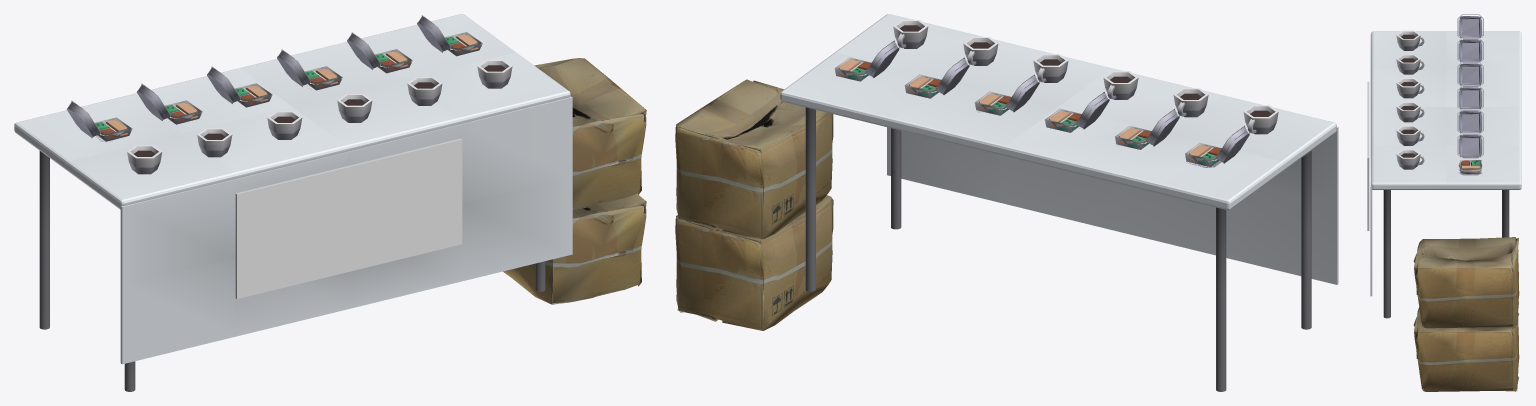
Rendered from pr_lunch.glb.
3 renders of one model, left to right at view 1: azimuth 30°, elevation 25°; view 2: azimuth 150°, elevation 25°; view 3: azimuth 270°, elevation 25°, orthographic. The views are drawn at different scales.
Parts seen in each view (by area): view 1: body, sign_card; view 2: body; view 3: body, sign_card.
Part boxes in pixels (x1,y1,x2,y2): body: (14, 14, 646, 391); sign_card: (235, 138, 462, 298); body: (675, 14, 1338, 391); body: (1370, 14, 1521, 391); sign_card: (1367, 81, 1369, 230).
Bounding box in the file's own units: 2.25 × 1.09 × 0.77.
Materials: 7 (4 with a texture image).
